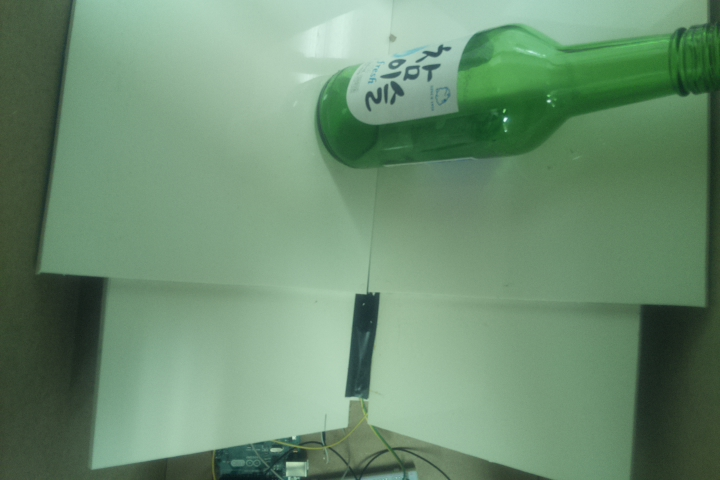soju: (316, 22, 720, 171)
